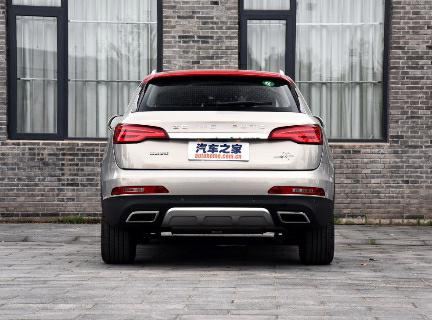众泰-SR7: (97, 63, 341, 271)
